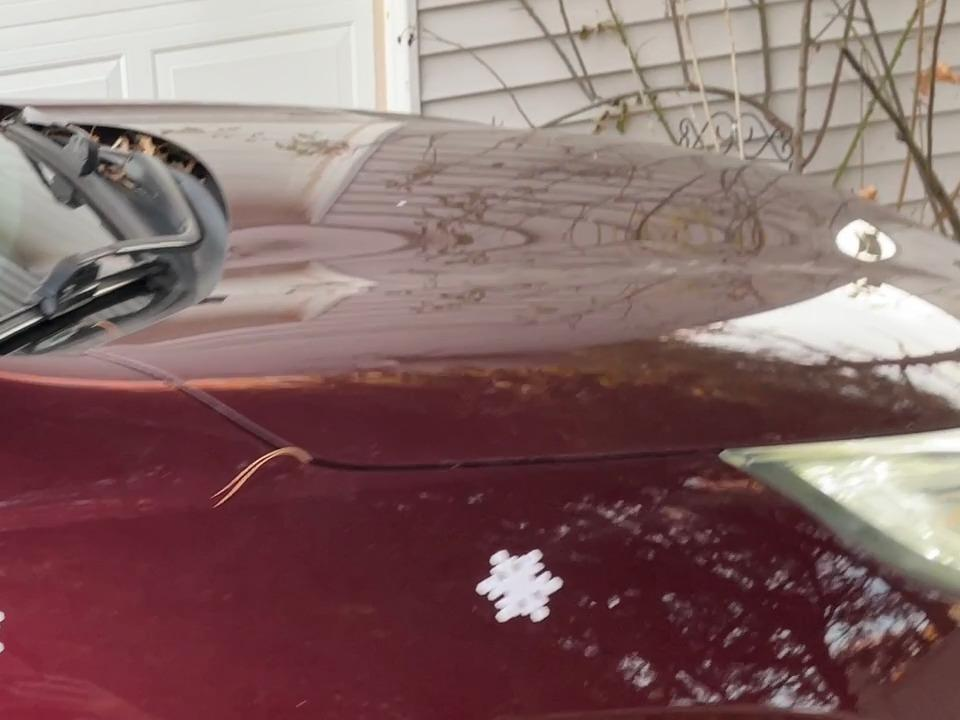dent: (458, 521, 581, 643), (0, 584, 20, 692)
